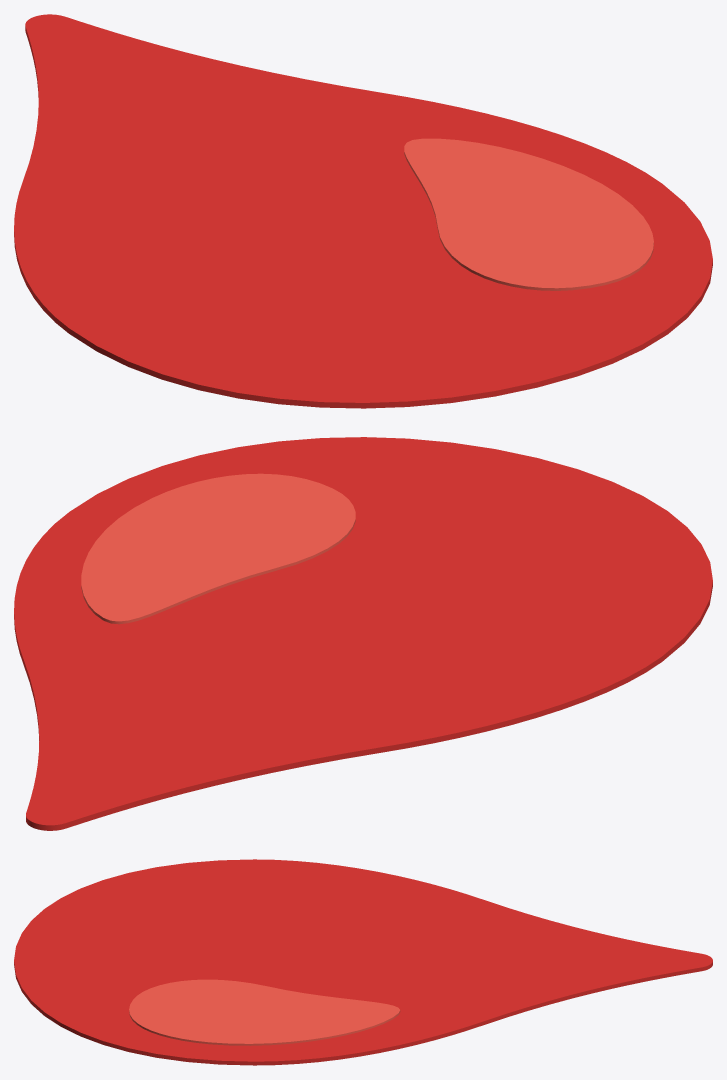
File: emoji_u1fa78.glb
3 renders of one model, top to bottom at view 1: azimuth 30°, elevation 25°; view 2: azimuth 150°, elevation 25°; view 3: azimuth 270°, elevation 25°, orthographic. The views are drawn at different scales.
Visible parts, largest first — view 1: emoji_u1fa78; view 2: emoji_u1fa78; view 3: emoji_u1fa78.
Boxes of the visible parts, x1=… form: emoji_u1fa78: x1=14, y1=14, x2=712, y2=408; emoji_u1fa78: x1=14, y1=437, x2=712, y2=830; emoji_u1fa78: x1=14, y1=859, x2=712, y2=1065.
Bounding box in the file's own units: 0.0224 × 0.0004 × 0.0327.
